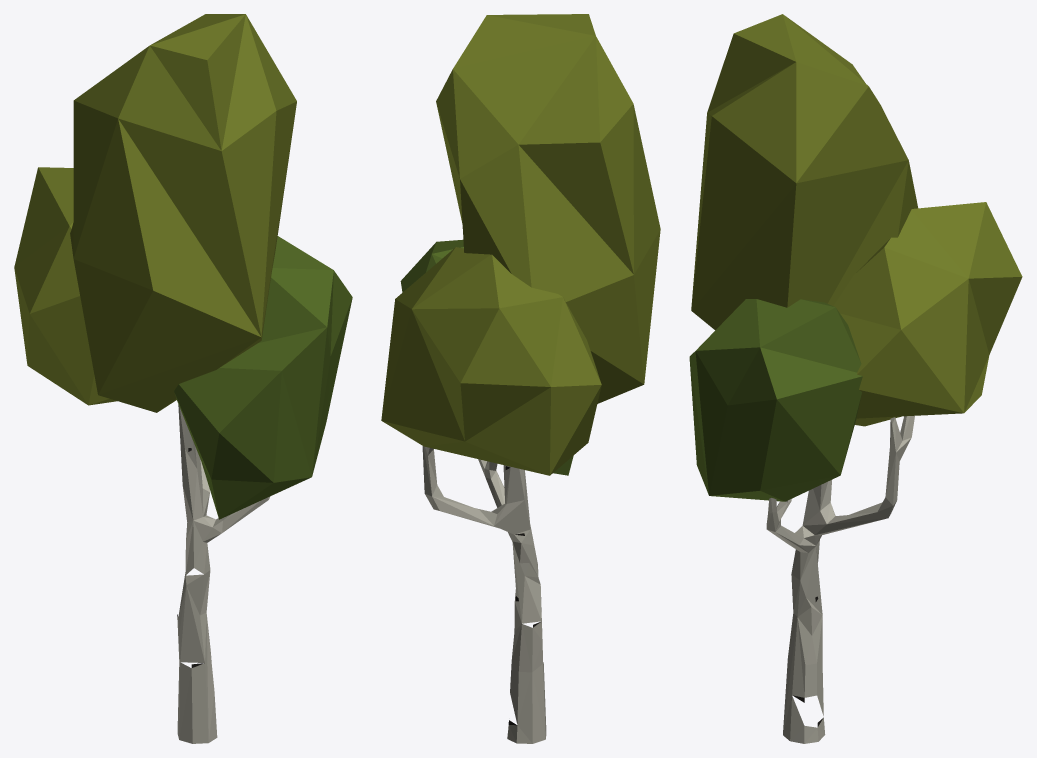
File: birch_b.glb
3 views of the same model, side by side, from view 1: azimuth 30°, elevation 25°; view 2: azimuth 150°, elevation 25°; view 3: azimuth 270°, elevation 25° (orthographic). The views are drawn at different scales.
Parts seen in each view (by area): view 1: birch_b; view 2: birch_b; view 3: birch_b.
Boxes of the visible parts, <box> form: birch_b: <box>14,14,352,743</box>; birch_b: <box>381,14,660,743</box>; birch_b: <box>689,14,1022,743</box>.
Size of the model in its own units: 1.56 by 4.06 by 1.76.
